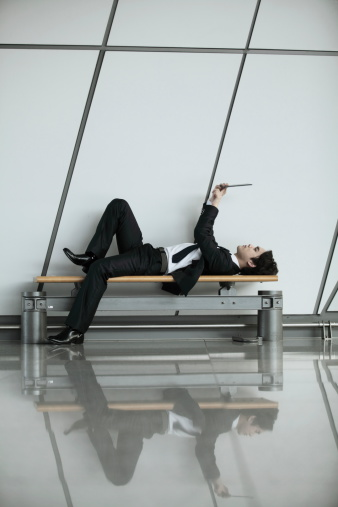deitado: (37, 184, 265, 321)
